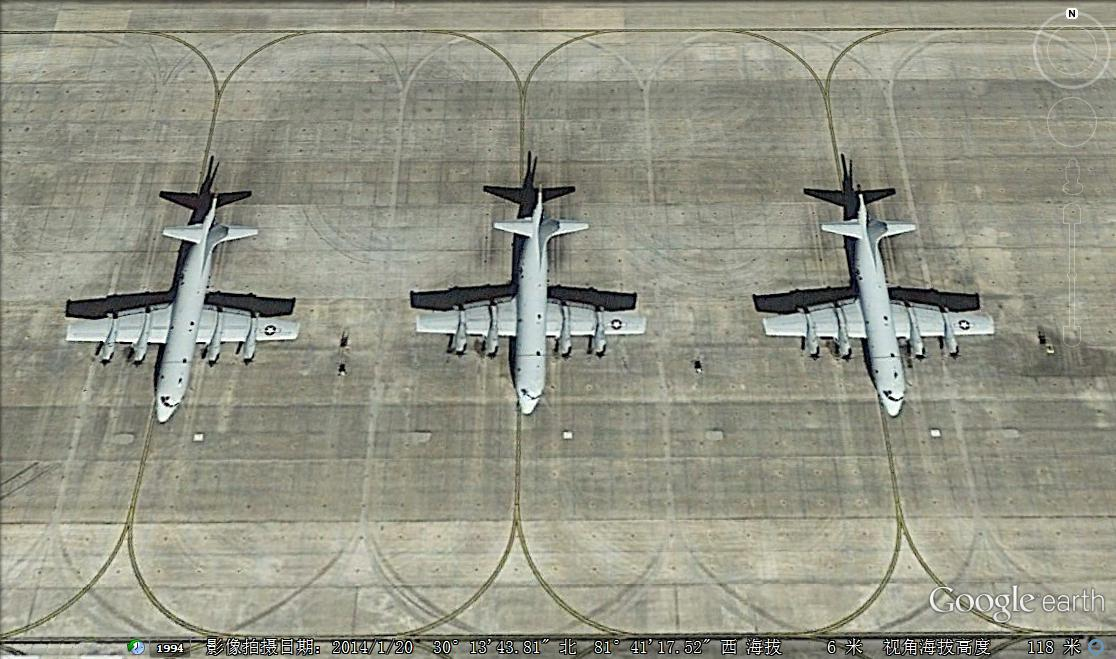P-3C: (403, 183, 656, 417), (752, 189, 997, 424), (56, 196, 307, 425)
